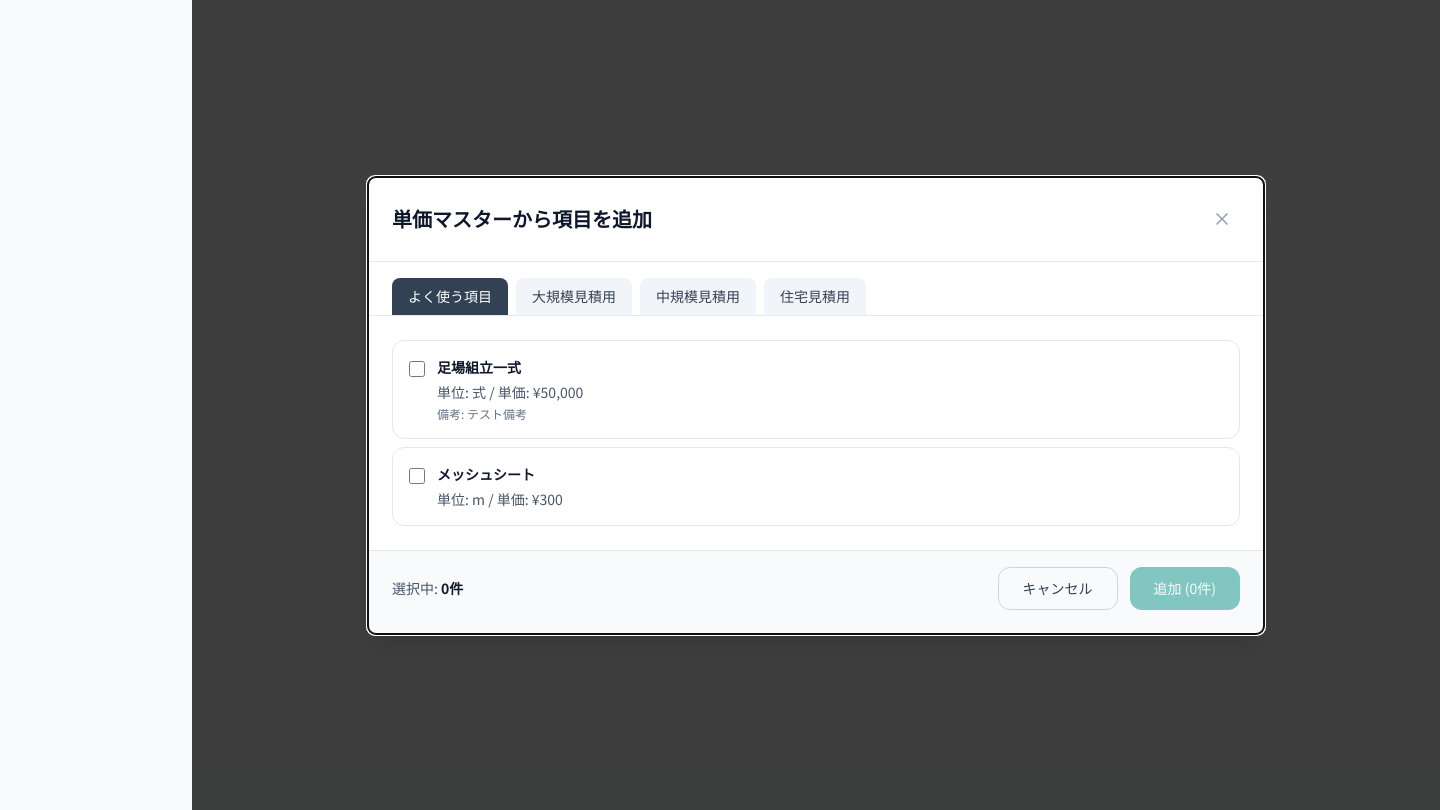
UnitPriceMasterModal › should toggle item selection with checkbox
What coordinates should you click on to do the following:
click the checkbox labelled "足場組立一式 単位: 式 / 単価: ¥50,000 備考: テスト備考"
I would click on:
 (417, 368)
Its box is 409,360 -> 425,376.
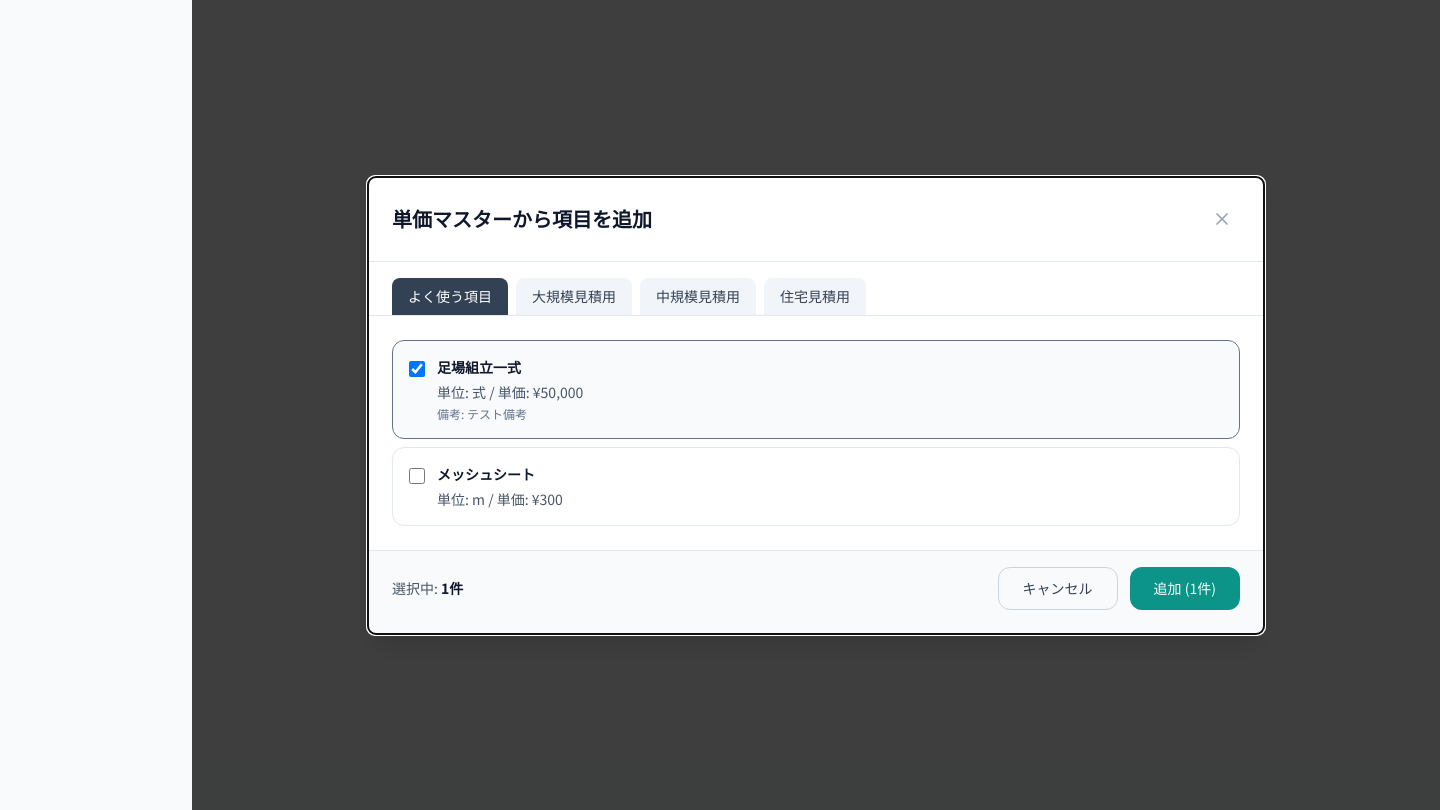
Check: the text "選択中:" is shown, box 392,578 -> 441,598
Check: the text "1件" is shown, box 441,578 -> 463,598
